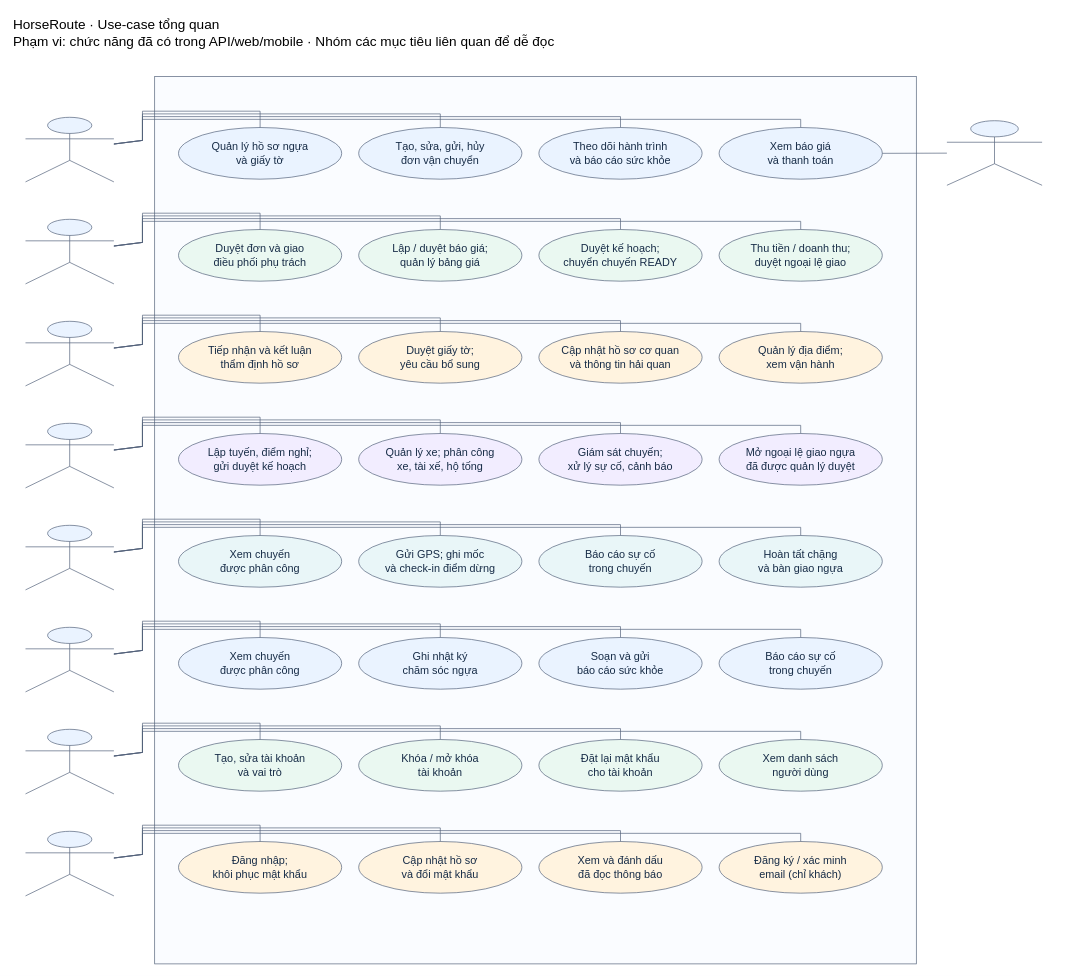
The diagram is 1070 pixels wide and 976 high, and some of its shapes have lost their labels. Each missing label, with the centre of its shape:
"Chuyên viên" belongs at point 69,353.
"Hộ tống" belongs at point 69,659.
"Khách hàng" belongs at point 69,149.
"Người dùng (*)" belongs at point 69,863.
"Quản lý" belongs at point 69,251.
"Quản trị viên" belongs at point 69,761.
"Tài xế" belongs at point 69,557.
"VNPay" belongs at point 994,152.
"Điều phối viên" belongs at point 69,455.
